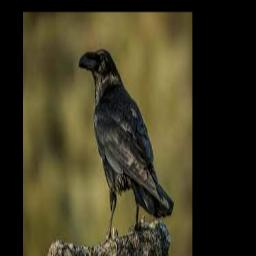Crow: (78, 49, 173, 243)
